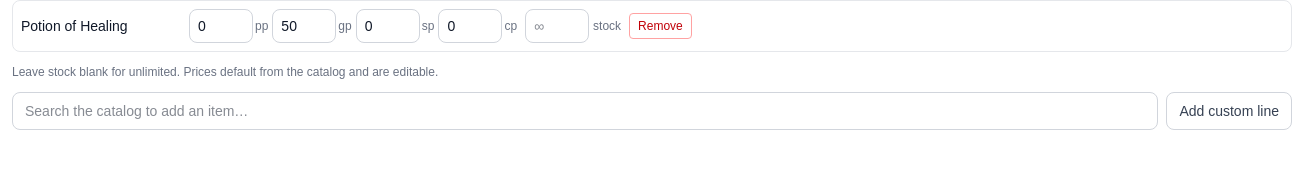
Test: ShopStockEditor › hides catalog results already stocked (by itemId)
Type "o" into the field named "search items" at (585, 111), box [12,92,1158,130]
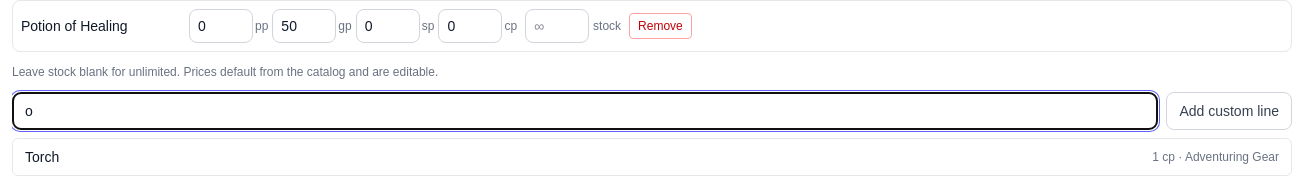
Expected: the button with aria-label "add torch" is shown, [12,138,1292,176]
